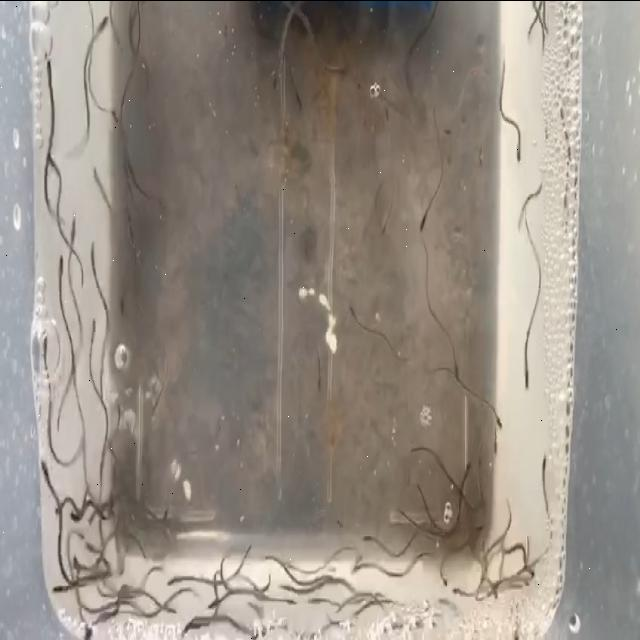inactive_glass_eel: (36, 444, 58, 486), (92, 9, 118, 40), (174, 610, 202, 636), (34, 328, 50, 372), (444, 354, 466, 386), (160, 565, 180, 597), (67, 211, 83, 248), (53, 250, 67, 292), (352, 549, 374, 575), (484, 404, 503, 434), (354, 524, 374, 552), (70, 552, 86, 586), (536, 446, 553, 478), (450, 570, 465, 604), (344, 296, 362, 324), (114, 289, 132, 316), (45, 41, 60, 73), (265, 548, 285, 572), (418, 194, 428, 242), (521, 358, 535, 392), (512, 130, 526, 163), (87, 238, 99, 276), (292, 92, 308, 120), (524, 552, 538, 584), (88, 310, 100, 346), (274, 574, 298, 592), (309, 372, 327, 396), (68, 498, 82, 528), (52, 488, 66, 518), (50, 574, 66, 600), (84, 614, 100, 640), (489, 572, 502, 602), (532, 171, 544, 203), (284, 591, 302, 612), (81, 541, 98, 563), (110, 102, 122, 132), (490, 429, 501, 461), (44, 144, 56, 173), (206, 592, 220, 616), (306, 584, 318, 612), (92, 160, 102, 188), (440, 569, 450, 594)
